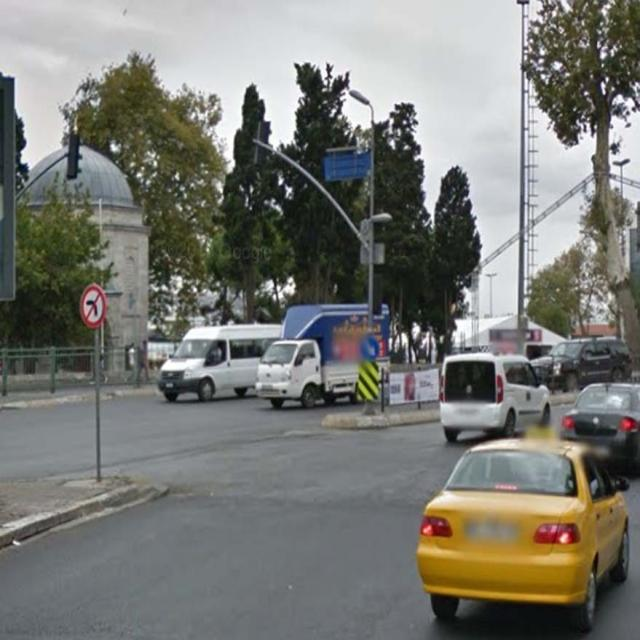soladonulmez: (80, 284, 106, 324)
